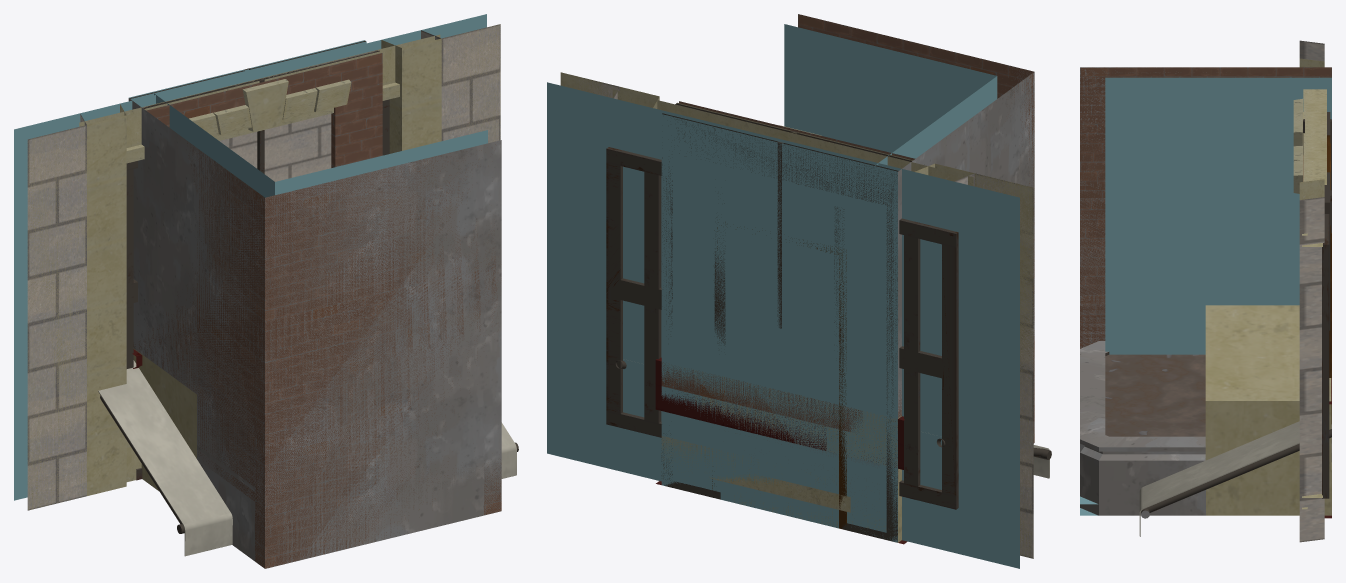
File: decorators.glb
3 views of the same model, side by side, from view 1: azimuth 30°, elevation 25°; view 2: azimuth 150°, elevation 25°; view 3: azimuth 270°, elevation 25° (orthographic). The views are drawn at different scales.
Parts seen in each view (by area): view 1: Concrete_Corner, Brick_Corner_Plain, WhiteBrick_Window, Marble_Window, Brick_Window_Trim, Prop_Planter_Single, Prop_Awning, WhiteBrick_Plain_3, Entrance_Marble_2x1, DoorFrame_Trim, Metal_Window_Half; view 2: WhiteBrick_Window, Metal_Plain_3, WhiteBrick_Plain_3, Marble_Window, Concrete_Corner, Brick_Corner_Plain, Brick_Plain_1, DoorFrame_Metal_Single, Cornice_Brick_L, Cornice_Marble_Center, Cornice_Metal_90Angle_L, Brick_Window_Trim (+5 smaller); view 3: Brick_Corner_Plain, Prop_Planter_Single, Entrance_Marble_2x1, WhiteBrick_Window, Prop_Awning, Concrete_Corner, DoorFrame_Trim, Brick_Window_Trim, Marble_Window, Metal_Window_Half.
Boxes of the visible parts, bbox=[...] form: Concrete_Corner: bbox=[128, 92, 501, 568]; Brick_Corner_Plain: bbox=[133, 130, 501, 568]; WhiteBrick_Window: bbox=[14, 14, 500, 510]; Marble_Window: bbox=[14, 15, 500, 509]; Brick_Window_Trim: bbox=[132, 43, 382, 167]; Prop_Planter_Single: bbox=[197, 445, 483, 564]; Prop_Awning: bbox=[98, 360, 518, 556]; WhiteBrick_Plain_3: bbox=[130, 40, 378, 181]; Entrance_Marble_2x1: bbox=[133, 348, 196, 490]; DoorFrame_Trim: bbox=[130, 41, 380, 110]; Metal_Window_Half: bbox=[130, 40, 379, 173]; WhiteBrick_Window: bbox=[547, 76, 1033, 568]; Metal_Plain_3: bbox=[661, 104, 911, 541]; WhiteBrick_Plain_3: bbox=[661, 114, 897, 416]; Marble_Window: bbox=[547, 72, 1033, 568]; Concrete_Corner: bbox=[784, 24, 1034, 483]; Brick_Corner_Plain: bbox=[784, 14, 1034, 482]; Brick_Plain_1: bbox=[661, 392, 897, 542]; DoorFrame_Metal_Single: bbox=[661, 117, 897, 542]; Cornice_Brick_L: bbox=[662, 364, 850, 431]; Cornice_Marble_Center: bbox=[669, 363, 897, 467]; Cornice_Metal_90Angle_L: bbox=[661, 393, 826, 450]; Brick_Window_Trim: bbox=[679, 101, 915, 512]; Brick_Corner_Plain: bbox=[1080, 67, 1331, 354]; Prop_Planter_Single: bbox=[1080, 341, 1331, 515]; Entrance_Marble_2x1: bbox=[1205, 305, 1331, 515]; WhiteBrick_Window: bbox=[1299, 40, 1331, 542]; Prop_Awning: bbox=[1139, 421, 1331, 536]; Concrete_Corner: bbox=[1080, 67, 1299, 354]; DoorFrame_Trim: bbox=[1303, 89, 1331, 423]; Brick_Window_Trim: bbox=[1293, 98, 1303, 193]; Marble_Window: bbox=[1299, 58, 1331, 228]; Metal_Window_Half: bbox=[1303, 112, 1331, 330].
Size of the model in its own units: 4 by 3 by 2.
Materials: 8 (7 with a texture image).
